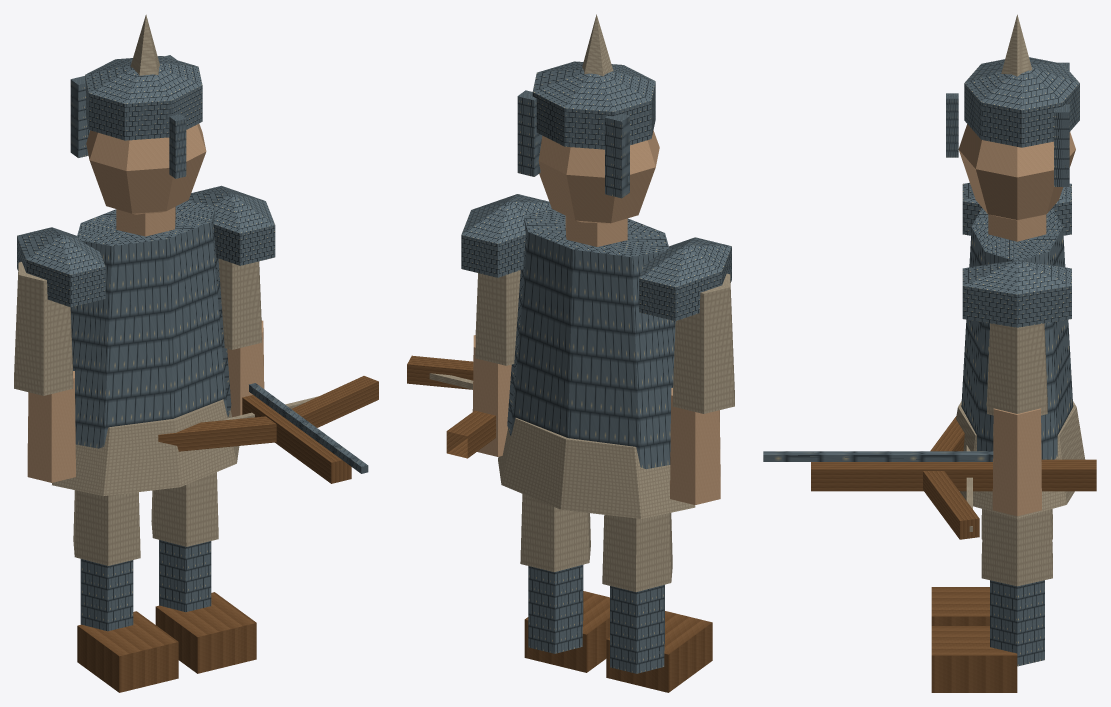
The model's file is unit-CROSSBOW-lod1.glb.
3 renders of one model, left to right at view 1: azimuth 30°, elevation 25°; view 2: azimuth 150°, elevation 25°; view 3: azimuth 270°, elevation 25°, orthographic. The views are drawn at different scales.
Size of the model in its own units: 0.2499 by 0.448 by 0.21.
1 material, 1 textured.
